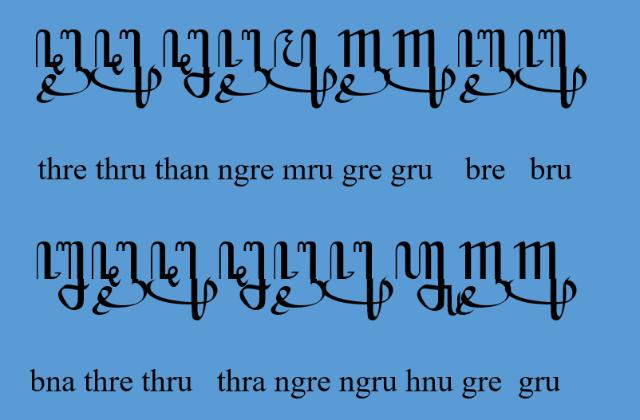bn: (36, 241, 90, 311)
bre: (458, 28, 516, 104)
bru: (514, 28, 588, 110)
gre: (456, 240, 512, 316), (335, 29, 391, 103)
gru: (504, 240, 578, 322), (384, 29, 456, 109)
hnu: (395, 241, 461, 317)
mru: (267, 29, 337, 109)
ngre: (214, 28, 270, 104), (270, 241, 326, 317)
ngru: (322, 240, 393, 322)
thn: (162, 28, 215, 98)
thr: (219, 241, 271, 311)
thre: (90, 241, 148, 315), (36, 28, 92, 104)
thru: (91, 28, 163, 110), (146, 240, 218, 322)
